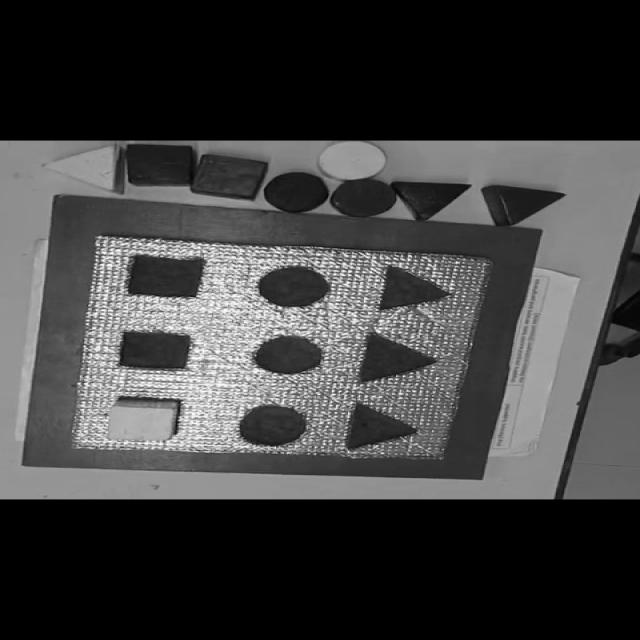bcircle: (262, 172, 328, 214)
btriangle: (393, 182, 473, 222)
mtcircle: (257, 266, 331, 308), (252, 334, 327, 375), (238, 404, 309, 446)
mtcube: (125, 254, 207, 298), (117, 329, 193, 370)
mttriangle: (358, 332, 438, 383), (345, 402, 418, 450), (378, 265, 452, 312)
rcircle: (331, 179, 396, 218)
rcube: (191, 154, 268, 201), (125, 144, 194, 187)
rtriangle: (482, 185, 566, 226)
wb: (70, 235, 492, 462)
ycircle: (317, 141, 388, 182)
ycube: (108, 401, 180, 442)
ytriangle: (42, 145, 123, 193)
